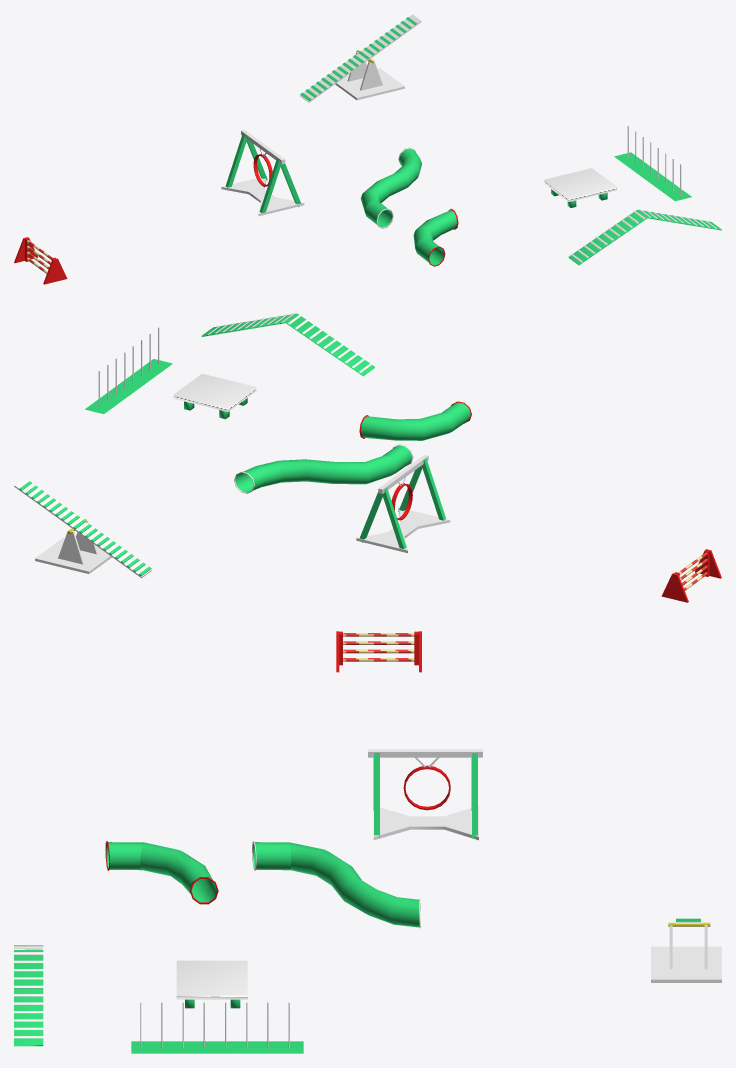
The model's file is set ply.fbx.
3 views of the same model, one above another, from view 1: azimuth 30°, elevation 25°; view 2: azimuth 150°, elevation 25°; view 3: azimuth 270°, elevation 25° (orthographic). The views are drawn at different scales.
Parts seen in each view (by area): view 1: polySurface201, polySurface229, polySurface173, polySurface202, polySurface178, polySurface164, polySurface235, polySurface205, polySurface230; view 2: polySurface201, polySurface202, polySurface229, polySurface173, polySurface178, polySurface164, polySurface235, polySurface205, polySurface230, polySurface228, polySurface157, polySurface238; view 3: polySurface201, polySurface202, polySurface173, polySurface205, polySurface178, polySurface164, polySurface235, polySurface230, polySurface234.
Part boxes in pixels (bbox=[...]): polySurface201: bbox=[360, 147, 421, 228]; polySurface229: bbox=[300, 14, 421, 102]; polySurface173: bbox=[544, 168, 616, 201]; polySurface202: bbox=[413, 208, 458, 266]; polySurface178: bbox=[568, 209, 721, 265]; polySurface164: bbox=[614, 152, 691, 201]; polySurface235: bbox=[221, 175, 304, 216]; polySurface205: bbox=[335, 68, 404, 100]; polySurface230: bbox=[571, 209, 716, 262]; polySurface201: bbox=[234, 444, 413, 493]; polySurface202: bbox=[359, 401, 471, 440]; polySurface229: bbox=[14, 478, 151, 577]; polySurface173: bbox=[173, 373, 256, 411]; polySurface178: bbox=[201, 313, 374, 376]; polySurface164: bbox=[85, 359, 172, 413]; polySurface235: bbox=[356, 507, 450, 553]; polySurface205: bbox=[35, 537, 111, 573]; polySurface230: bbox=[207, 313, 372, 373]; polySurface228: bbox=[58, 530, 83, 564]; polySurface157: bbox=[661, 573, 688, 602]; polySurface238: bbox=[422, 458, 445, 520]; polySurface201: bbox=[252, 841, 420, 928]; polySurface202: bbox=[105, 841, 218, 904]; polySurface173: bbox=[176, 960, 247, 999]; polySurface205: bbox=[651, 946, 721, 982]; polySurface178: bbox=[14, 950, 43, 1046]; polySurface164: bbox=[131, 1041, 303, 1053]; polySurface235: bbox=[373, 805, 478, 840]; polySurface230: bbox=[14, 945, 43, 1038]; polySurface234: bbox=[368, 749, 482, 757].
Bounding box in the file's own units: 1.63 × 0.1517 × 1.23.
